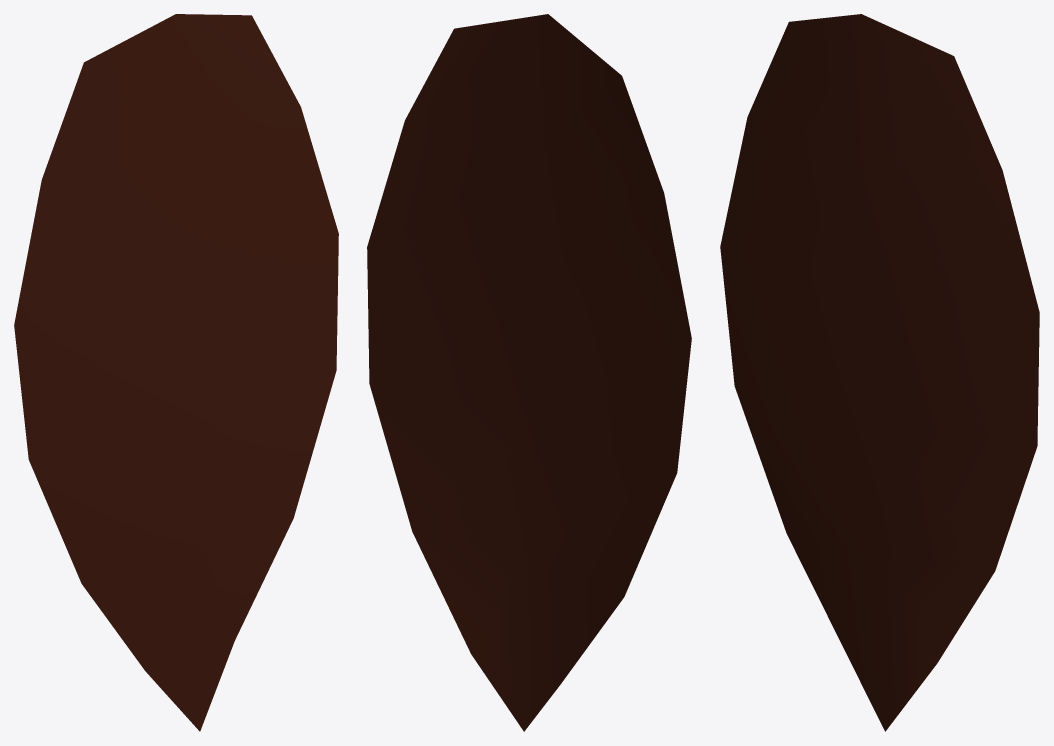
File: rooster_feather_flight_tertiary_007.obj
3 renders of one model, left to right at view 1: azimuth 30°, elevation 25°; view 2: azimuth 150°, elevation 25°; view 3: azimuth 330°, elevation 25°, orthographic.
Visible parts, largest first — view 1: feather_flight_tertiary_007; view 2: feather_flight_tertiary_007; view 3: feather_flight_tertiary_007.
Part boxes in pixels (x1=…): feather_flight_tertiary_007: x1=14, y1=14, x2=338, y2=731; feather_flight_tertiary_007: x1=367, y1=14, x2=691, y2=731; feather_flight_tertiary_007: x1=720, y1=14, x2=1039, y2=731.
Bounding box in the file's own units: 0.0103 × 0.022 × 0.000501.
